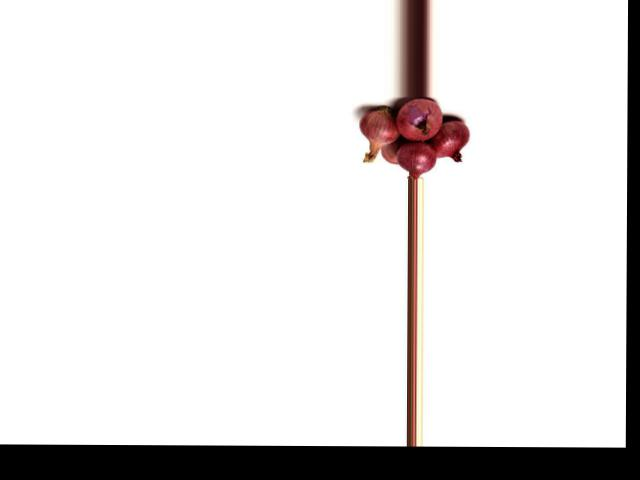onion: (387, 96, 443, 141)
